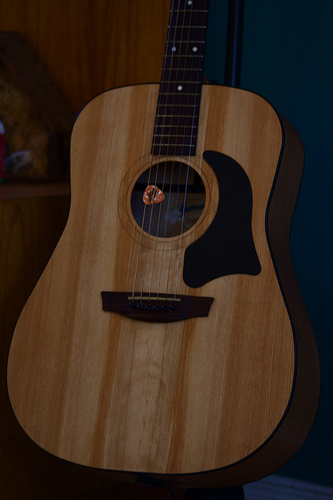guitar: (6, 1, 321, 493)
